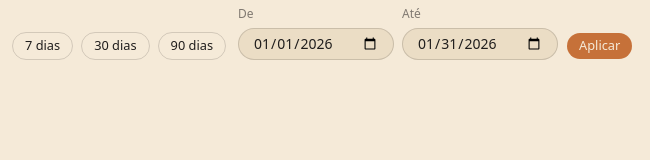
Test: PeriodSelector › shows a validation error when "from" is after "to"
Type "2026-03-01" into the date field labelled "De" at (316, 44), box [238,28,394,60]
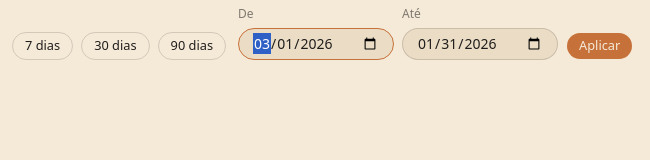
Type "2026-01-01" into the date field labelled "Até" at (480, 44), box [402,28,558,60]
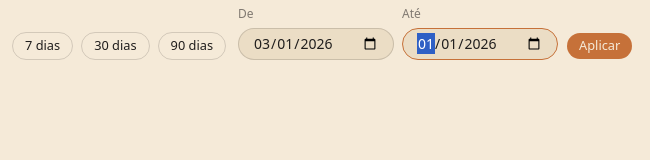
Click the button "Aplicar" at (600, 46), box [566,32,633,60]
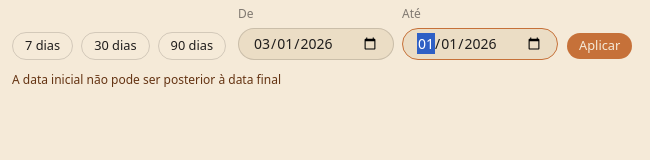
Now the text "A data inicial não pode ser posterior à data final" is shown, box [12,71,281,88]
